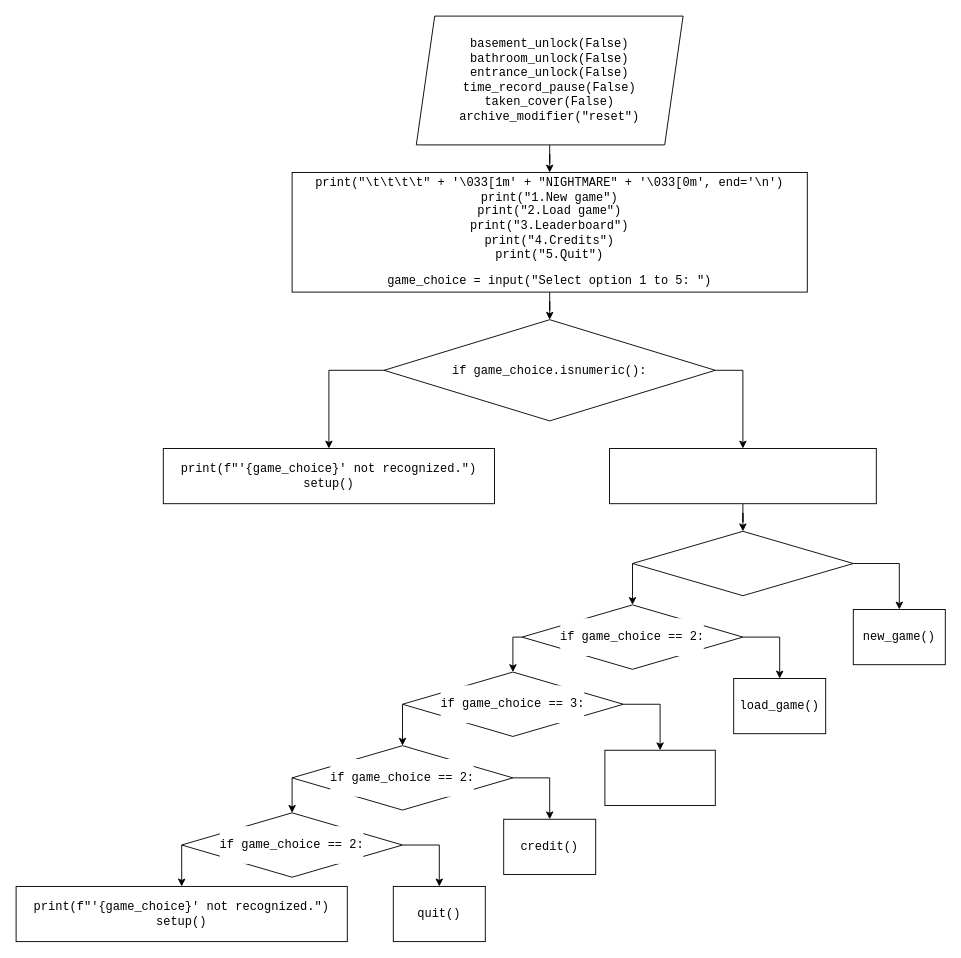
This 961x958 diagram has some shape labels left out. The centre of each missing label's shape, as x and y in pixels:
"game_choice = int(game_choice)" belongs at pixel 742 476.
"if game_choice == 1:" belongs at pixel 742 563.
"leaderboard()" belongs at pixel 659 777.
